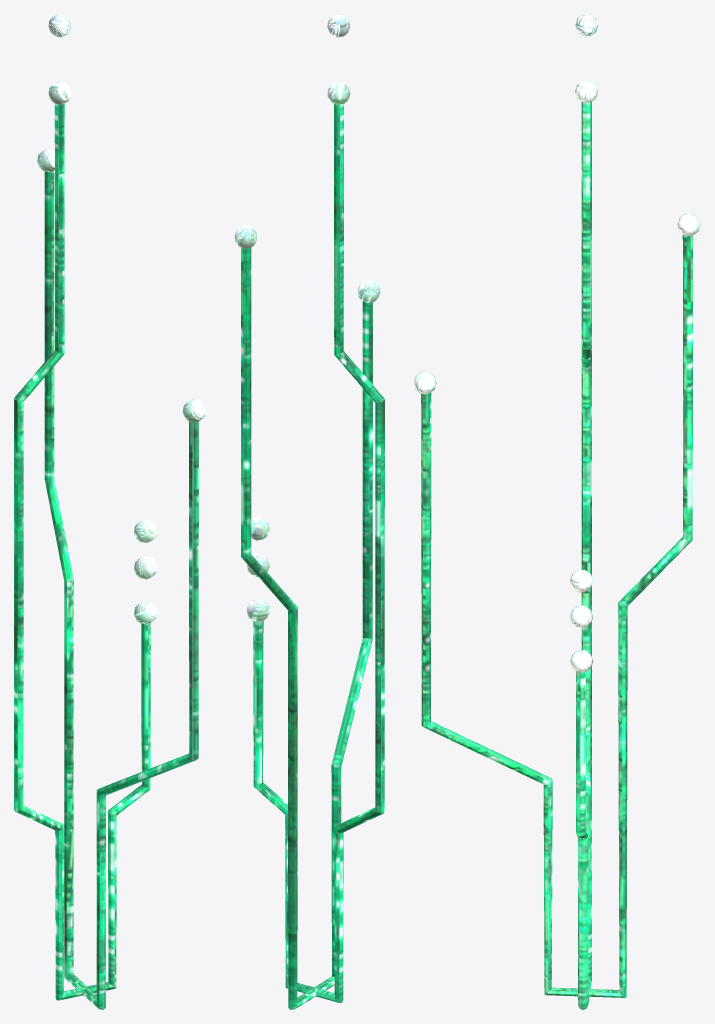
The model's file is FloorLights.glb.
3 renders of one model, left to right at view 1: azimuth 30°, elevation 25°; view 2: azimuth 150°, elevation 25°; view 3: azimuth 270°, elevation 25°, orthographic.
Parts seen in each view (by area): view 1: 平面.006, 棱角球.012; view 2: 平面.006, 棱角球.012; view 3: 平面.006, 棱角球.012.
Part boxes in pixels (box(x1,y1,x2,y2)): 平面.006: box(14, 103, 198, 1009); 棱角球.012: box(37, 14, 205, 624); 平面.006: box(241, 104, 384, 1009); 棱角球.012: box(234, 14, 380, 622); 平面.006: box(421, 102, 692, 1009); 棱角球.012: box(413, 14, 700, 672).
Size of what is drawn, in the model's own units: 1.22 by 8.32 by 2.23.
1 material, 1 textured.
